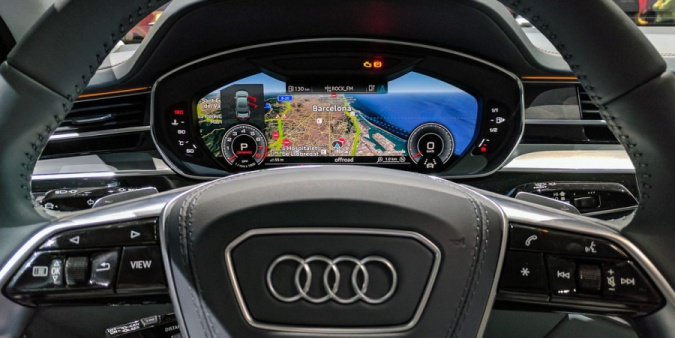audi: (260, 245, 406, 316)
